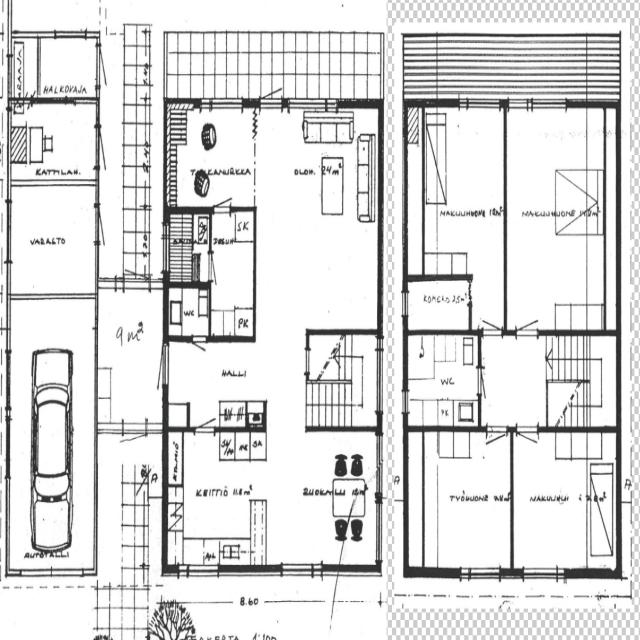door: (123, 234, 148, 287), (121, 422, 145, 474), (140, 344, 168, 386), (260, 58, 283, 109), (96, 126, 123, 168), (96, 203, 122, 242), (96, 45, 121, 83), (195, 389, 215, 431), (516, 428, 536, 468), (213, 173, 232, 213), (483, 295, 502, 335), (516, 295, 535, 335), (487, 428, 506, 468), (209, 248, 230, 280), (478, 362, 499, 394), (189, 336, 206, 372)
